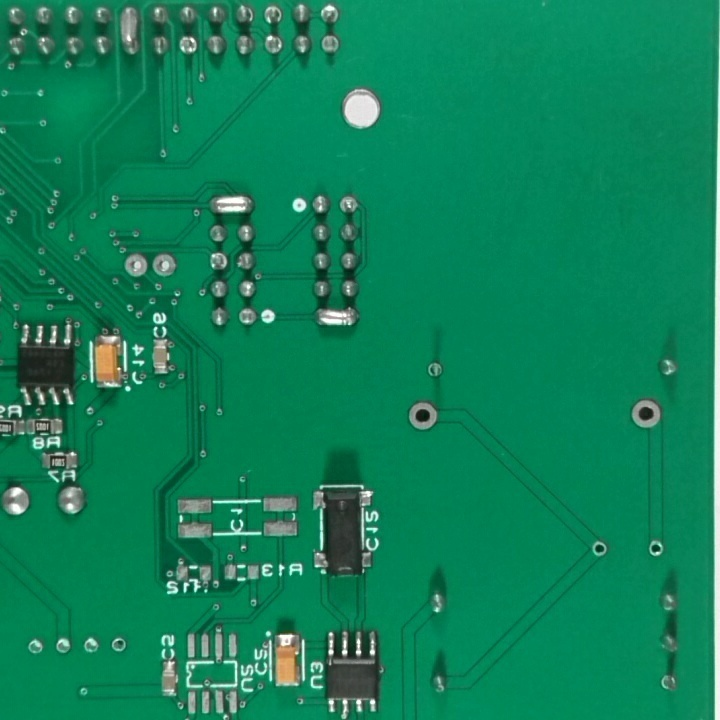F: (627, 395, 666, 434), (406, 398, 440, 432), (119, 249, 149, 282), (150, 252, 182, 281), (261, 3, 287, 29), (318, 3, 344, 28), (656, 672, 681, 696), (175, 35, 201, 58), (337, 194, 361, 218), (108, 632, 131, 657), (236, 304, 258, 330), (81, 632, 102, 659), (587, 539, 611, 562), (205, 250, 230, 272), (23, 637, 45, 661), (424, 358, 445, 383), (644, 535, 664, 561), (53, 634, 73, 660)
P: (116, 1, 144, 66), (307, 304, 364, 334), (207, 192, 260, 220)
